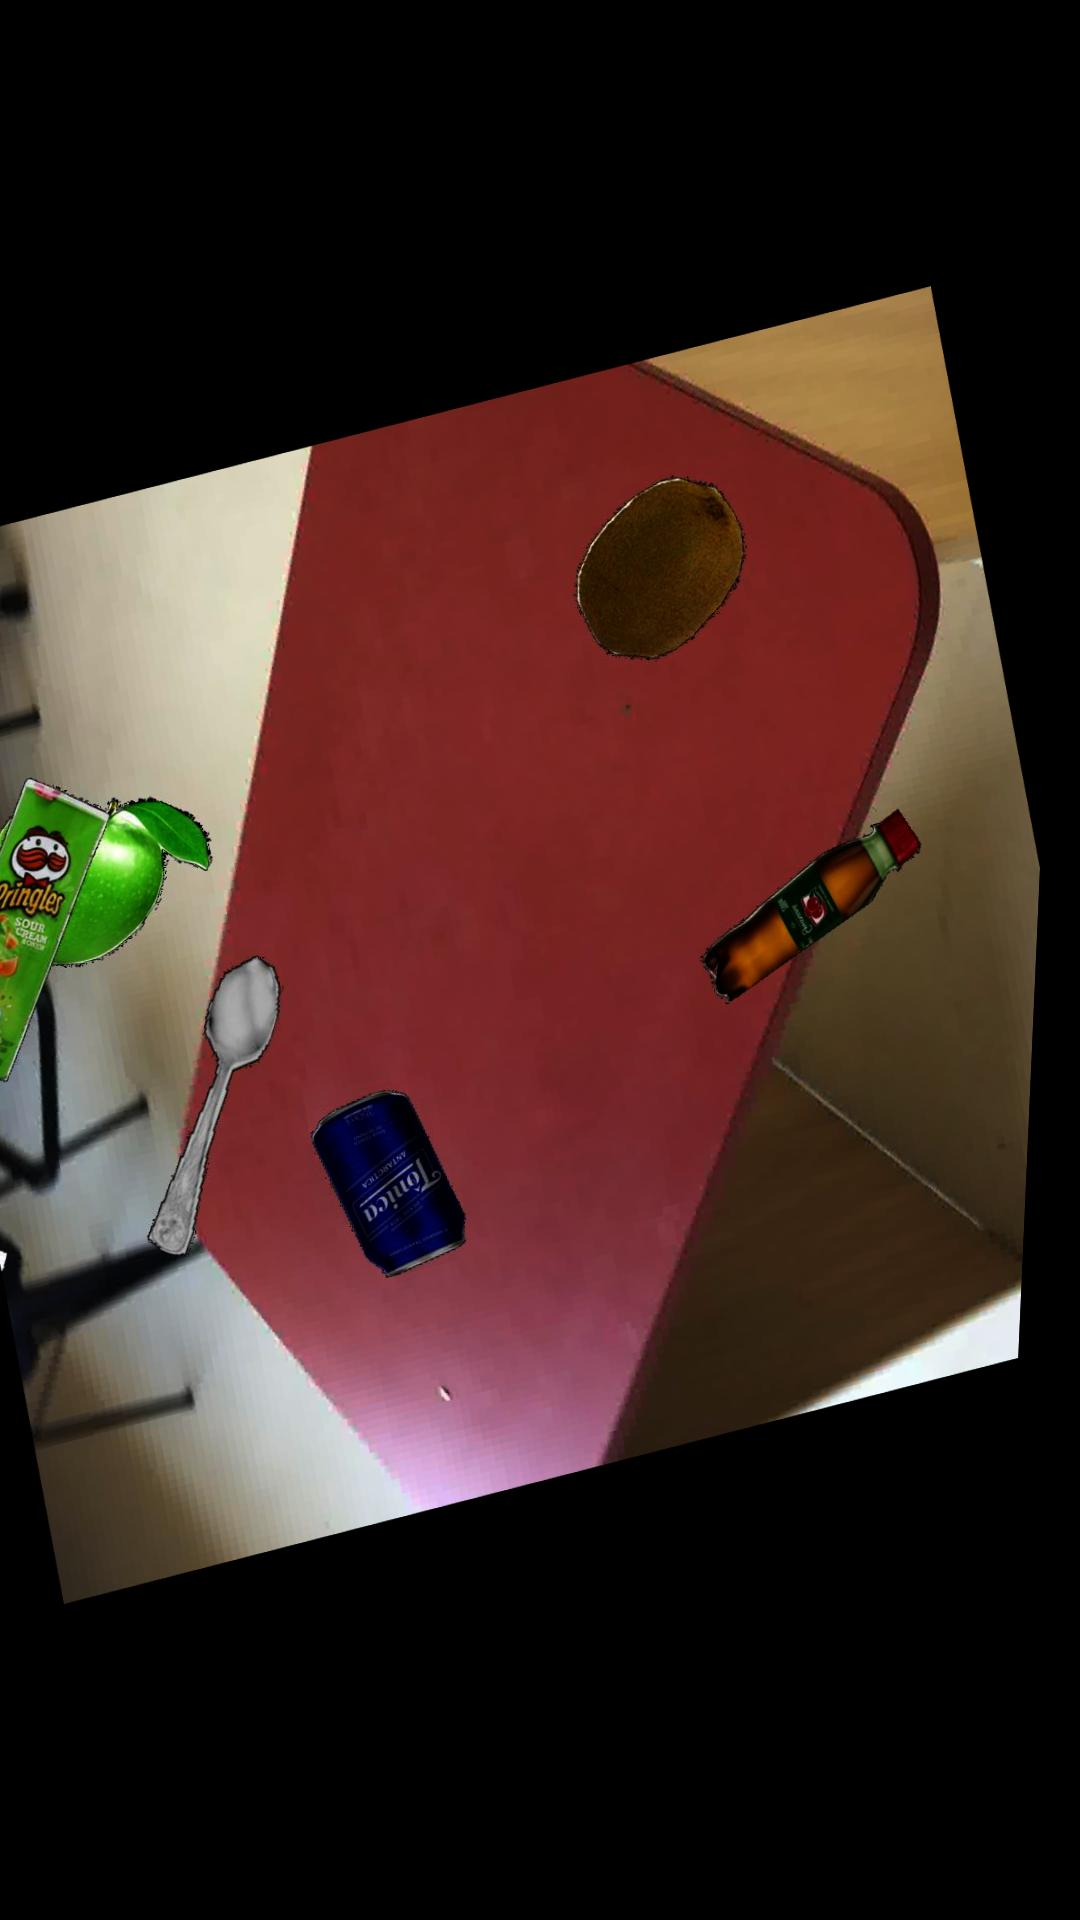green apple: (0, 796, 218, 965)
guarana: (711, 812, 927, 1006)
kiwi: (580, 479, 749, 662)
pringles: (0, 775, 117, 1080)
spoon: (157, 955, 289, 1255)
tonic: (320, 1091, 476, 1278)
